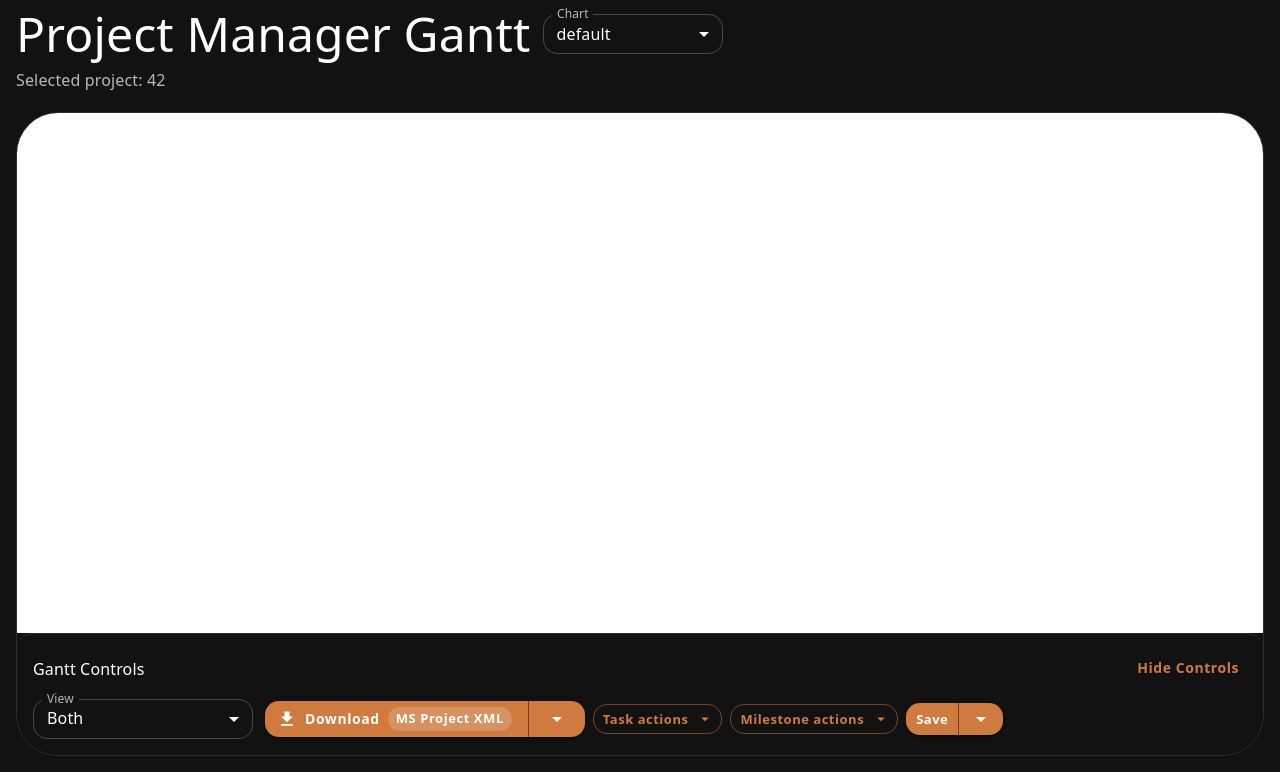
Test: ProjectManagerGanttPage › shows extension warning dialog when save XML is missing GGTC attrs
This screenshot has width=1280, height=772.
(page scrolled)
Click the button "Save" at (933, 719), box [906,703,959,735]
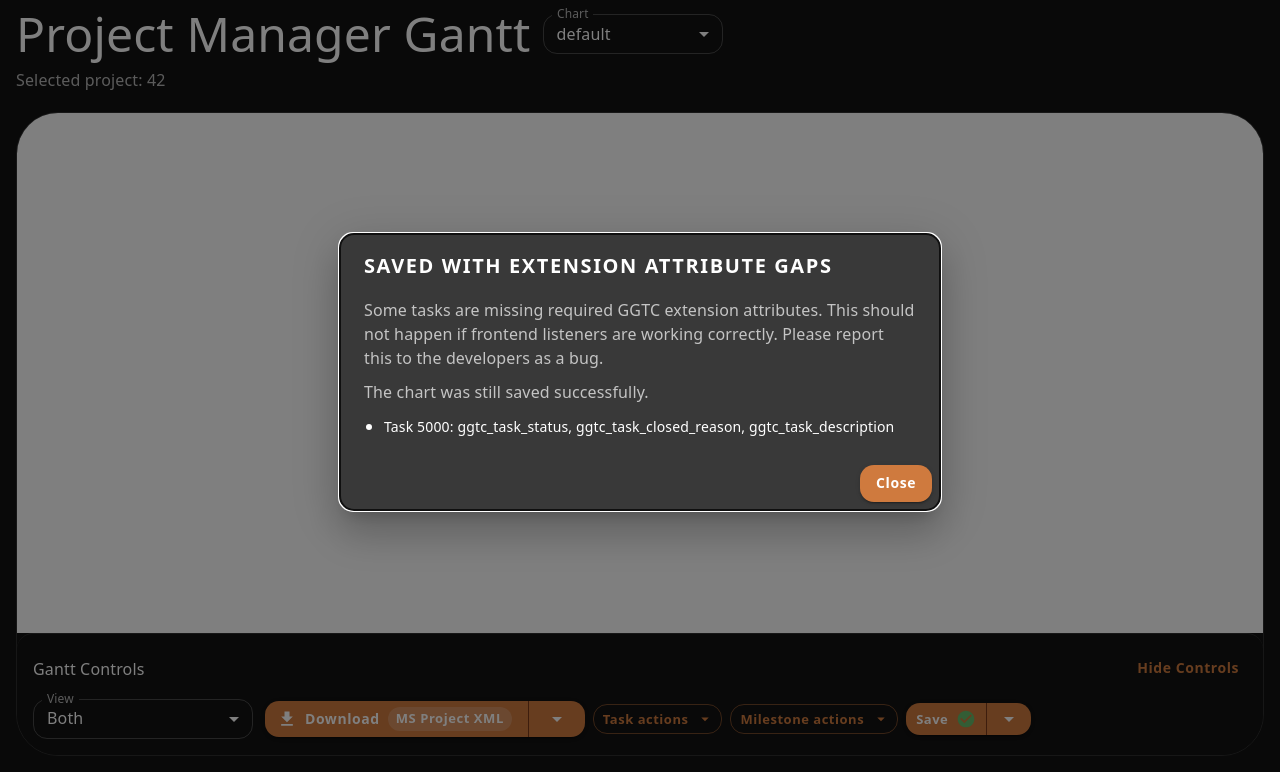
expect the heading "Saved with extension attribute gaps" is shown: met, box [364,252,832,279]
